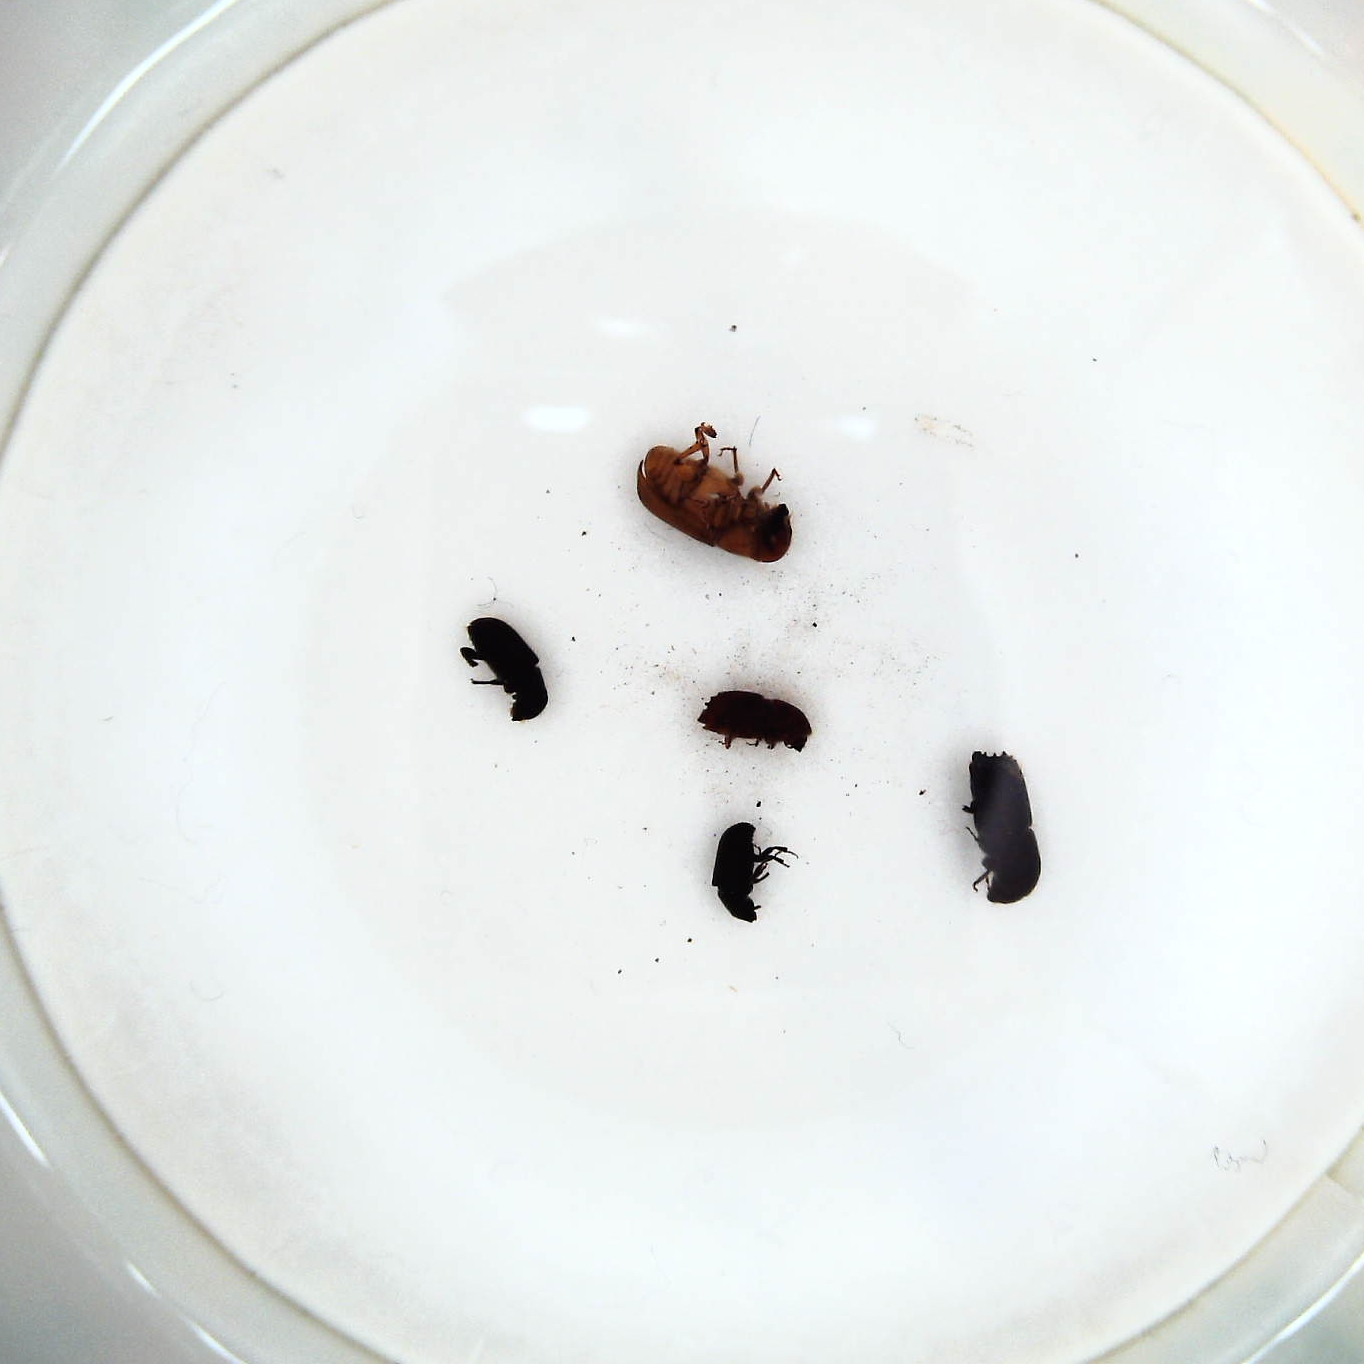Boerner: (957, 744, 1042, 911)
Leconte: (632, 420, 798, 567)
armandi: (457, 611, 555, 729)
coleoptera: (703, 818, 791, 928)
linnaeus: (688, 684, 819, 762)
